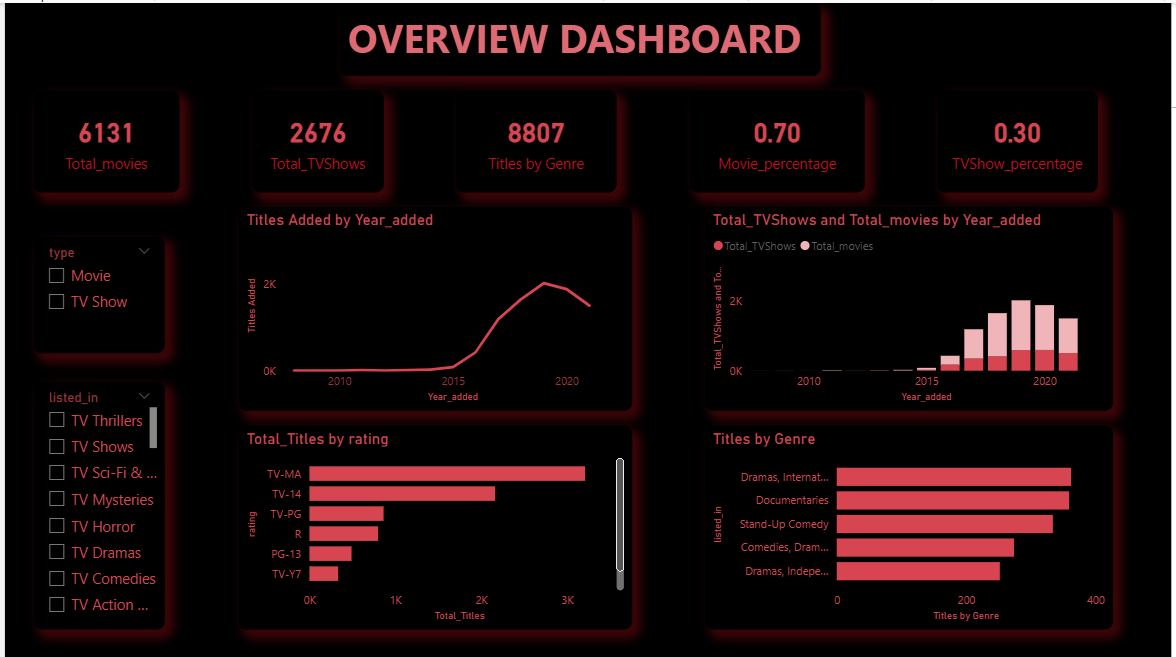

The page's visual inventory and layout, read from the dashboard file:
{"tool":"powerbi","page":{"name":"Overview","canvas":[1280,720],"ordinal":0},"visuals":[{"type":"card","fields":{"Values":["netflix_titles.Total_movies"]},"box":[32,96,160,112],"z":0},{"type":"textbox","box":[368,0,528,80],"z":1000},{"type":"card","fields":{"Values":["netflix_titles.Titles by Genre"]},"box":[496,96,176,112],"z":2000},{"type":"card","fields":{"Values":["netflix_titles.Movie_percentage"]},"box":[752,96,192,112],"z":3000},{"type":"card","fields":{"Values":["netflix_titles.TVShow_percentage"]},"box":[1024,96,176,112],"z":4000},{"type":"lineChart","fields":{"Y":["Genre_table.Titles Added"],"Category":["netflix_titles.Year_added.Variation.Date Hierarchy.Year"]},"box":[256,224,432,224],"z":5000},{"type":"card","fields":{"Values":["netflix_titles.Total_TVShows"]},"box":[272,96,144,112],"z":6000},{"type":"columnChart","fields":{"Y":["netflix_titles.Total_TVShows","netflix_titles.Total_movies"],"Category":["netflix_titles.Year_added"]},"box":[768,224,448,224],"z":7000},{"type":"barChart","fields":{"Category":["netflix_titles.rating"],"Y":["netflix_titles.Total_Titles"]},"box":[256,464,432,224],"z":8000},{"type":"barChart","title":"Titles by Genre","fields":{"Category":["netflix_titles.listed_in"],"Y":["netflix_titles.Titles by Genre"]},"box":[768,464,448,224],"z":9000},{"type":"slicer","fields":{"Values":["netflix_titles.type"]},"box":[32,256,144,128],"z":10000},{"type":"slicer","fields":{"Values":["Genre_table.listed_in"]},"box":[32,416,144,272],"z":11000}]}

Visuals, with their boxes in screenshot pixels (x1, y1, x2, y2), scaled from the page's 1280x720 canvas onto the 1176x657 screenshot:
card - netflix_titles.Total_movies: pyautogui.locateOnScreen(29, 88, 176, 190)
textbox: pyautogui.locateOnScreen(338, 0, 823, 73)
card - netflix_titles.Titles by Genre: pyautogui.locateOnScreen(456, 88, 617, 190)
card - netflix_titles.Movie_percentage: pyautogui.locateOnScreen(691, 88, 867, 190)
card - netflix_titles.TVShow_percentage: pyautogui.locateOnScreen(941, 88, 1102, 190)
lineChart - Genre_table.Titles Added x netflix_titles.Year_added.Variation.Date Hierarchy.Year: pyautogui.locateOnScreen(235, 204, 632, 409)
card - netflix_titles.Total_TVShows: pyautogui.locateOnScreen(250, 88, 382, 190)
columnChart - netflix_titles.Total_TVShows x netflix_titles.Total_movies: pyautogui.locateOnScreen(706, 204, 1117, 409)
barChart - netflix_titles.rating x netflix_titles.Total_Titles: pyautogui.locateOnScreen(235, 423, 632, 628)
"Titles by Genre" barChart: pyautogui.locateOnScreen(706, 423, 1117, 628)
slicer - netflix_titles.type: pyautogui.locateOnScreen(29, 234, 162, 350)
slicer - Genre_table.listed_in: pyautogui.locateOnScreen(29, 380, 162, 628)
